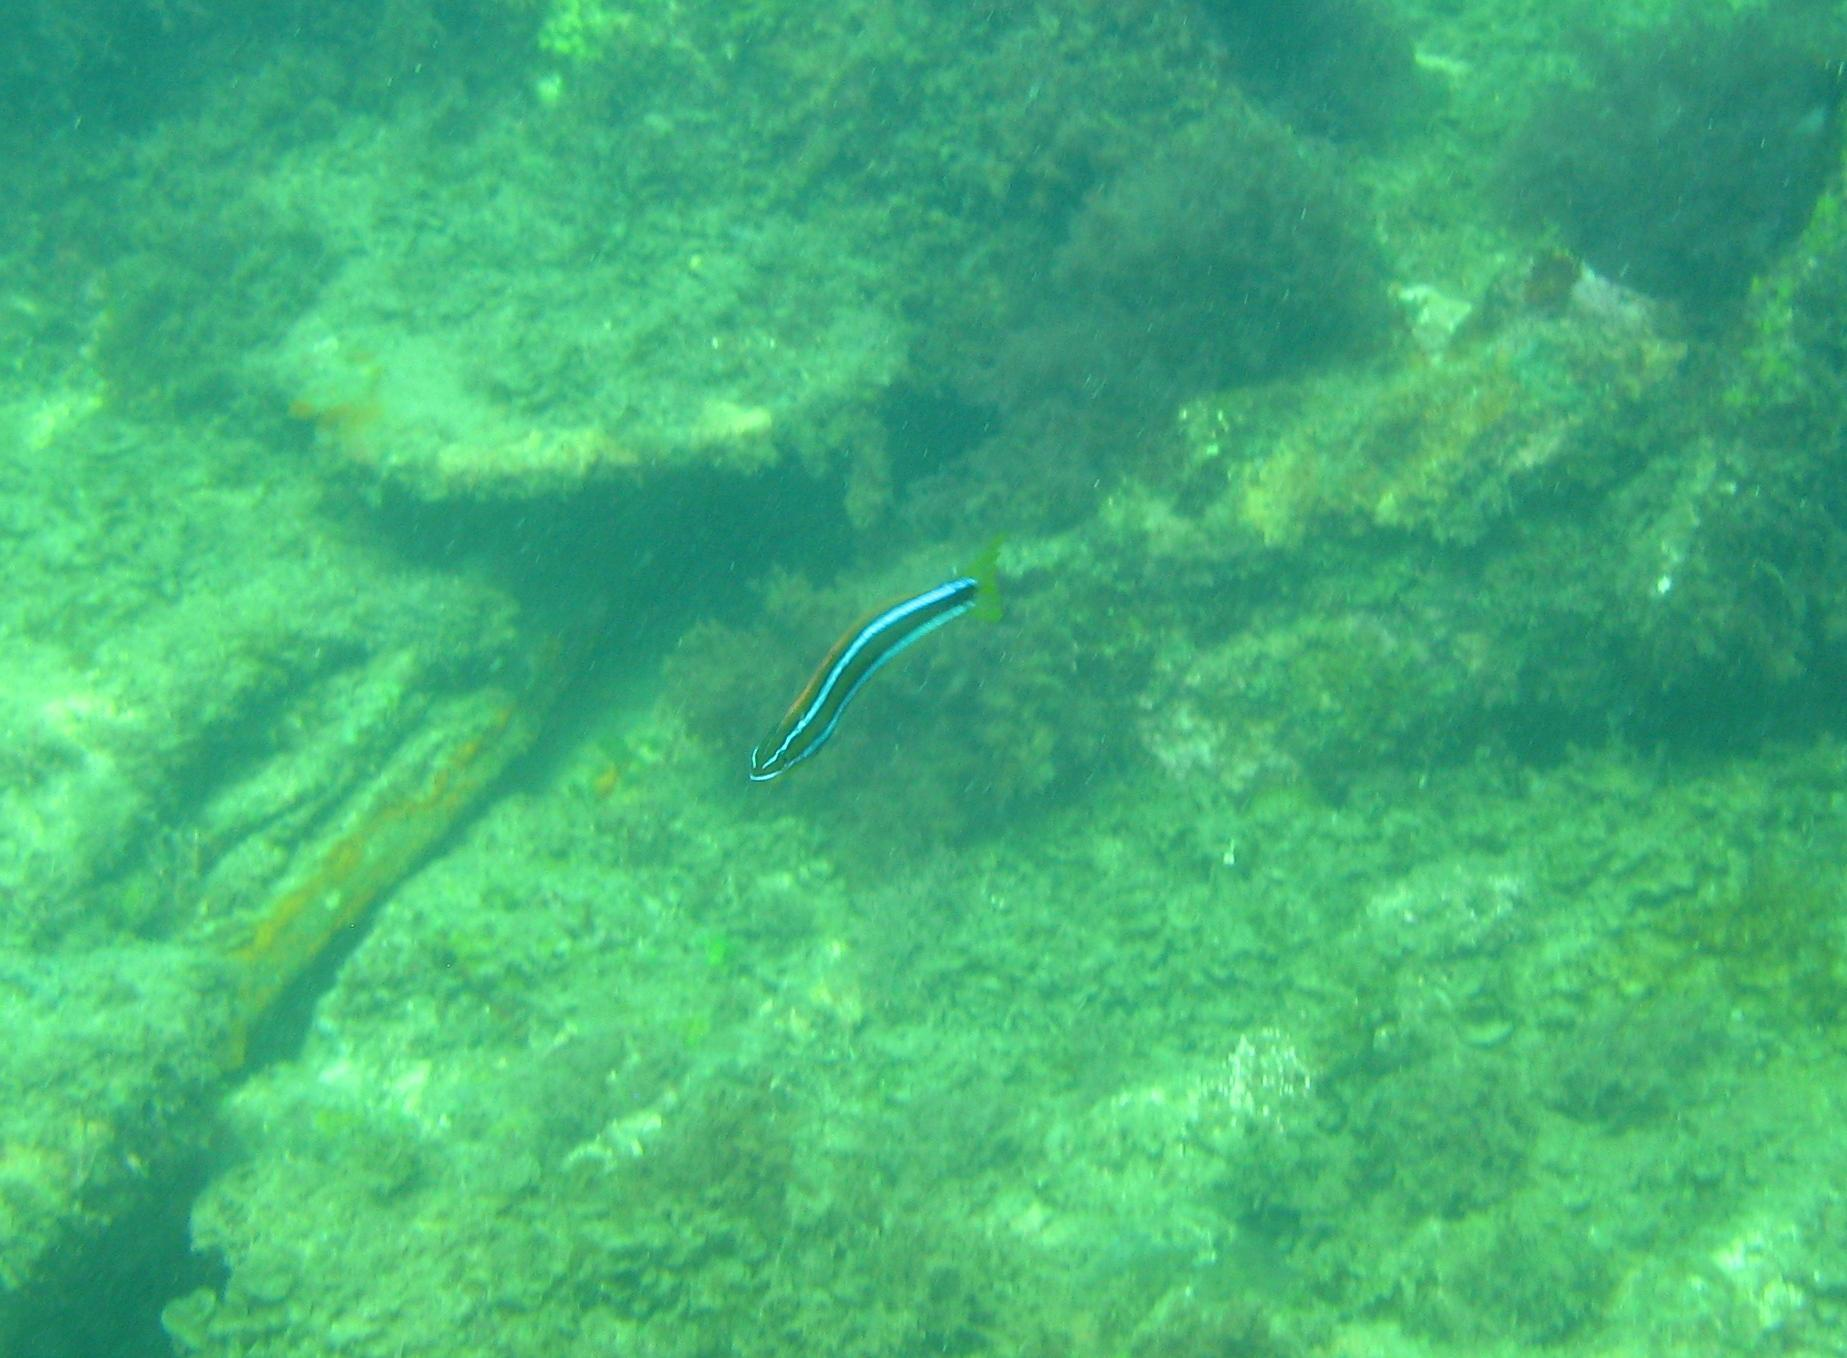Fish: (645, 503, 1051, 845)
